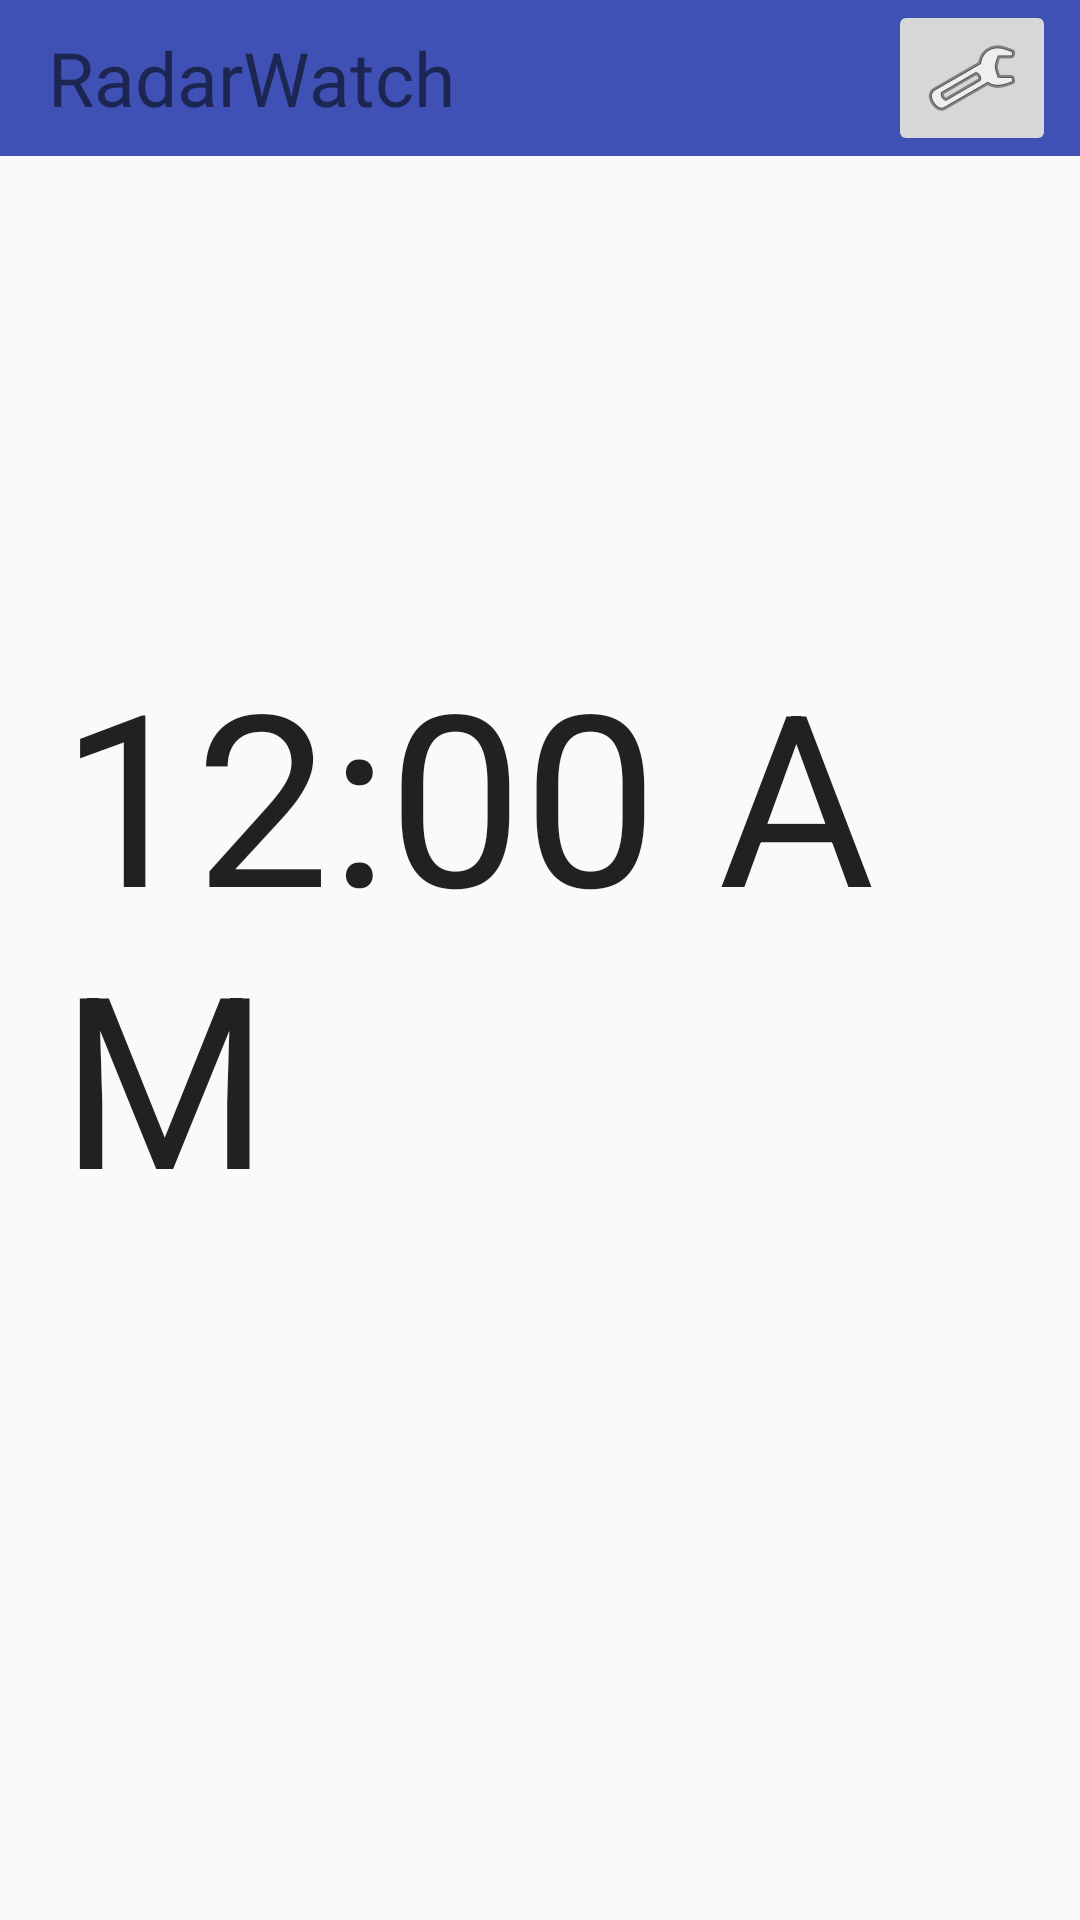

Where icons sit on this 1080×1920 app screen, as (x1, y1, x2, y2):
preferences: (900, 18, 1044, 138)
